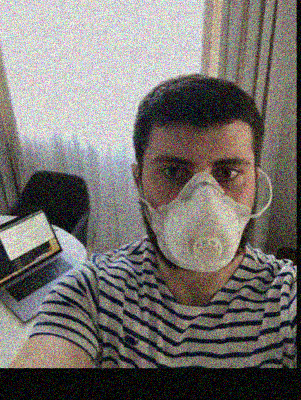with_mask: (145, 144, 254, 272)
